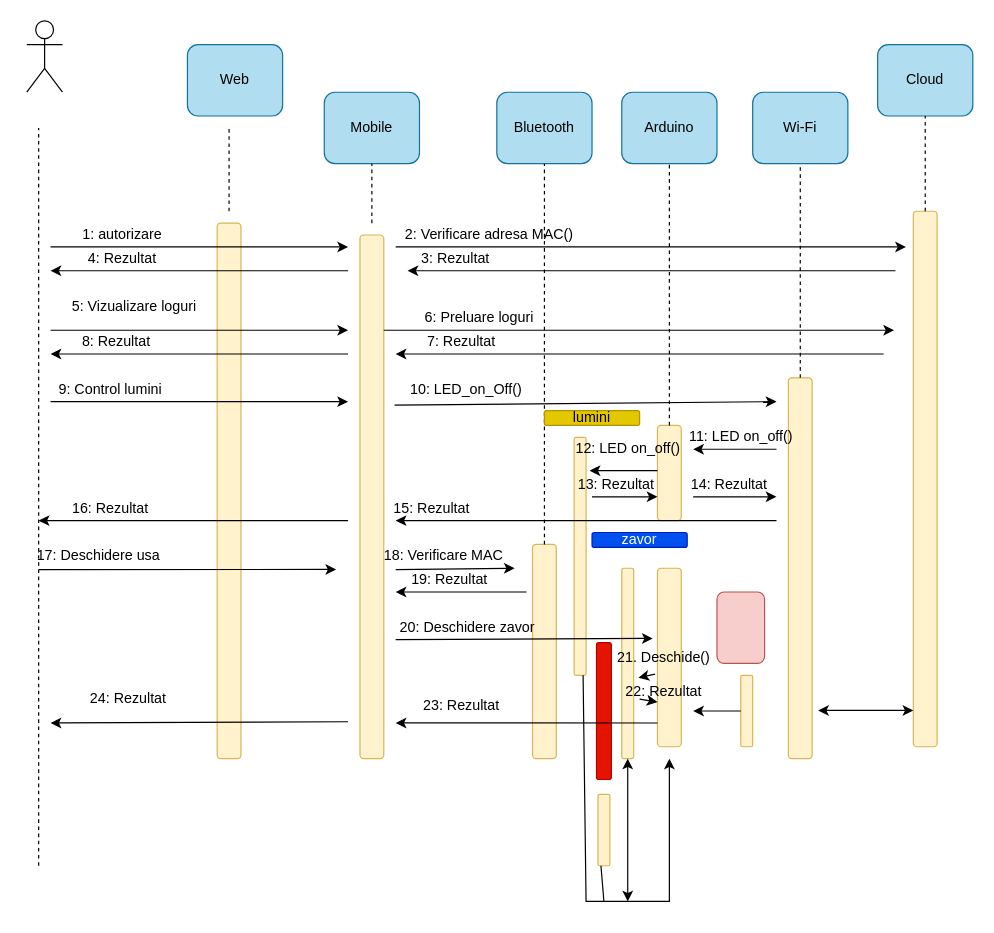
The diagram is 994 pixels wide and 933 high, and some of its shapes have lost their labels. Each missing label, with the box of its shape:
Locatar: (26, 20, 62, 92)
Senzor temp: (716, 591, 765, 663)
valve de caldura: (595, 642, 611, 780)
